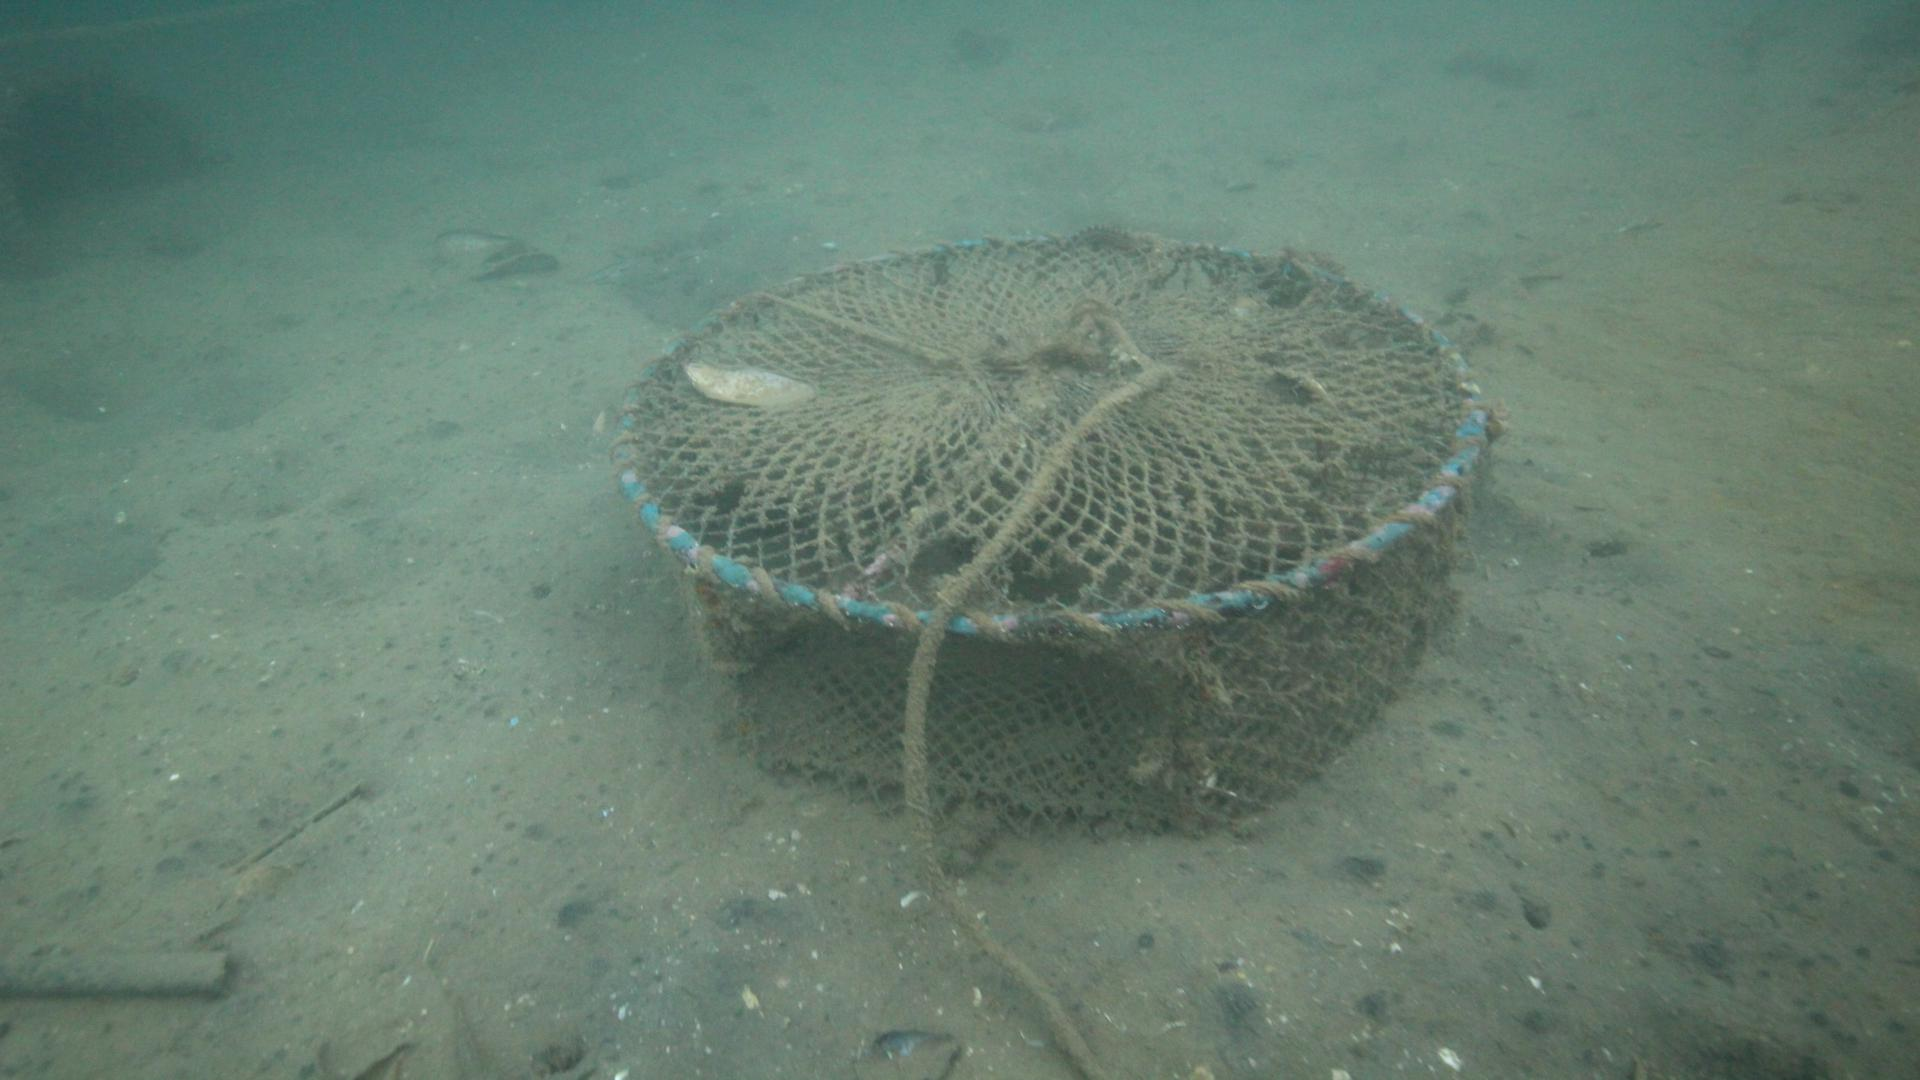circular fish trap: (607, 204, 1493, 814)
rope: (866, 320, 1199, 1069)
